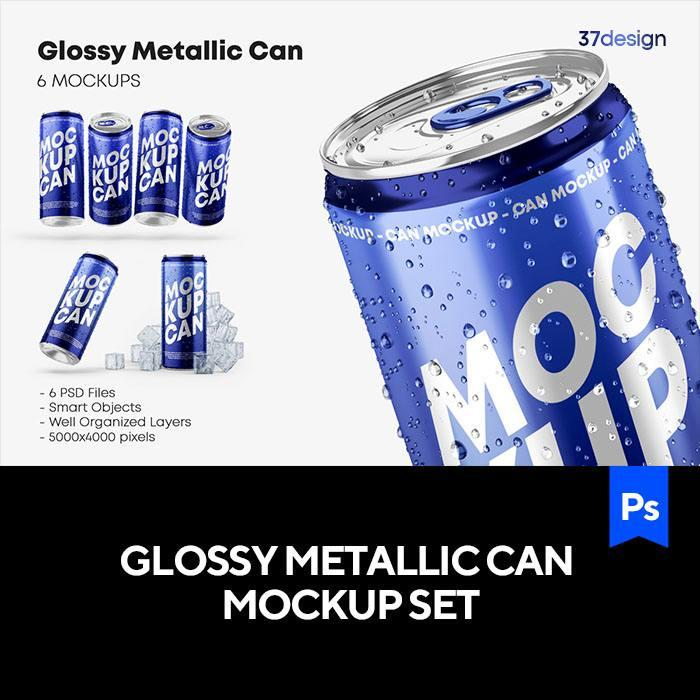metal: (322, 50, 699, 465), (39, 254, 117, 364), (182, 114, 230, 224), (135, 110, 181, 224), (39, 111, 83, 224), (162, 256, 206, 369), (88, 112, 132, 224), (194, 291, 243, 373)
